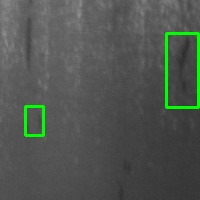inclusion: (166, 33, 198, 107), (20, 10, 38, 74), (25, 106, 43, 135)
